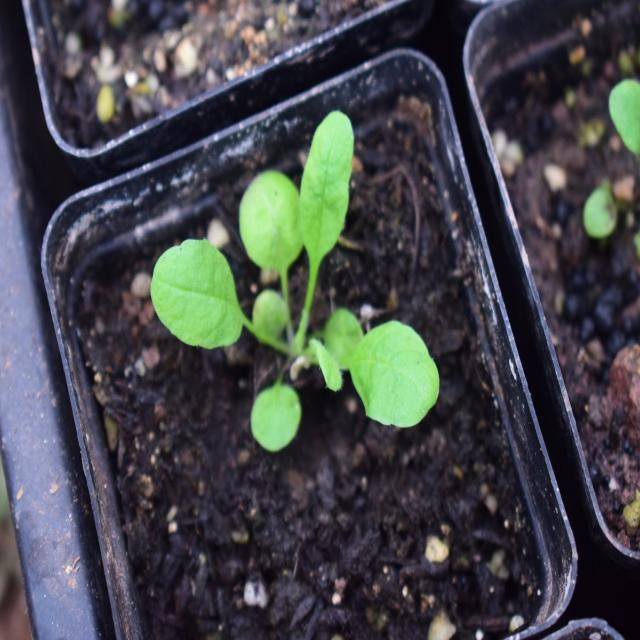Shepherd_Purse: (154, 126, 438, 444)
